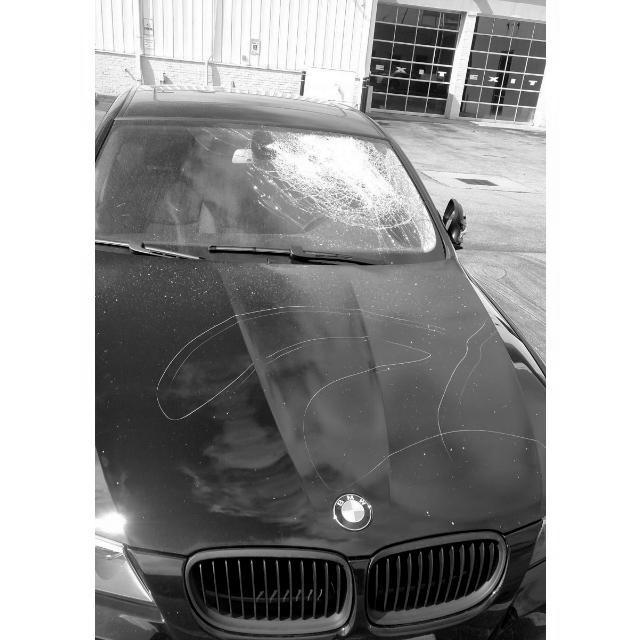Front-windscreen-damage: (94, 103, 426, 259)
bonnet-dent: (95, 254, 546, 590)
